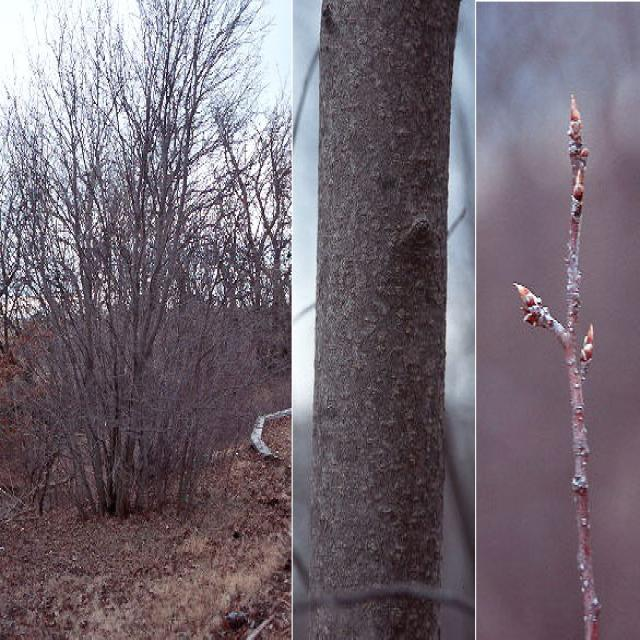Prunus virginiana: (5, 4, 275, 508)
